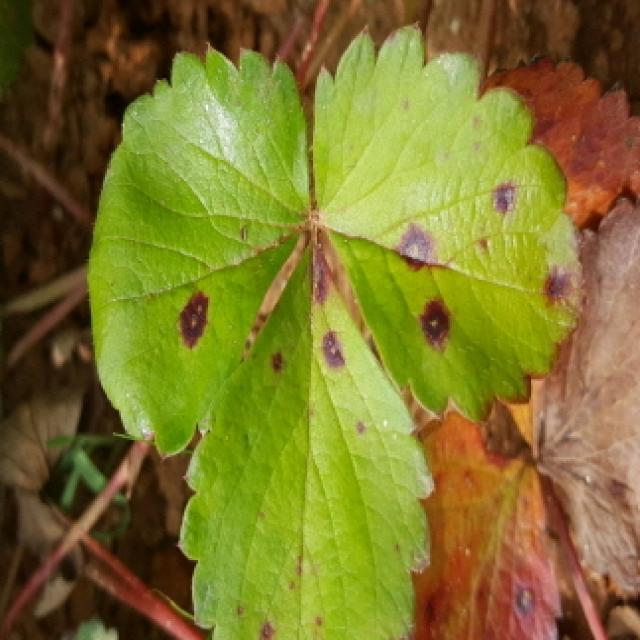Leaf Spot: (313, 19, 588, 427), (177, 232, 436, 640), (88, 40, 312, 461), (398, 385, 565, 640)
